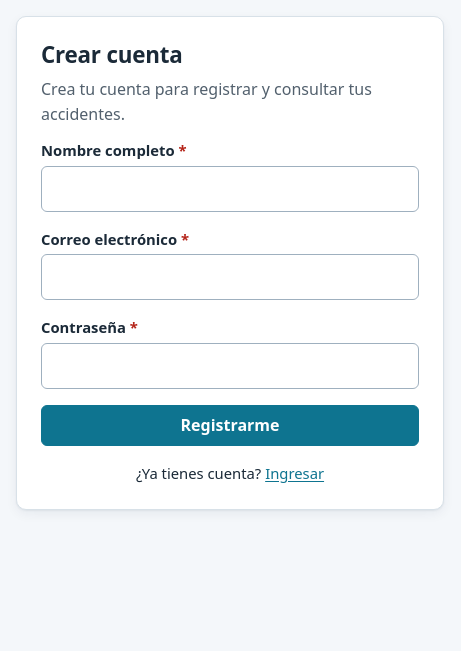
Test: RegisterPage › si el login posterior falla, avisa que la cuenta fue creada y enlaza a login
Type "Ana Pérez" into the field labelled "Nombre completo" at (230, 188), box [41, 166, 419, 212]
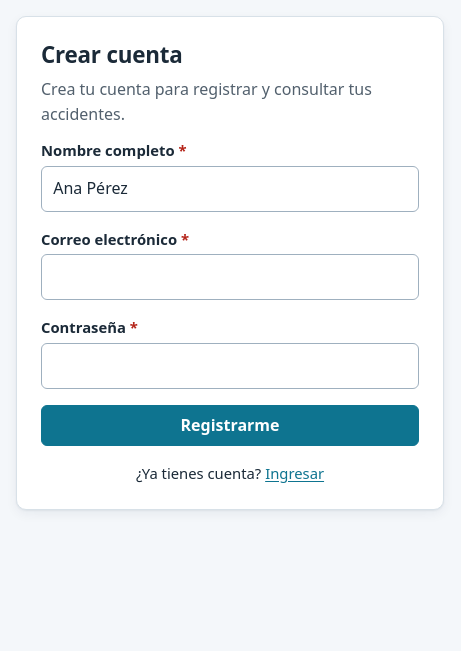
Type "a@b.co" into the field labelled "Correo electrónico" at (230, 277), box [41, 254, 419, 300]
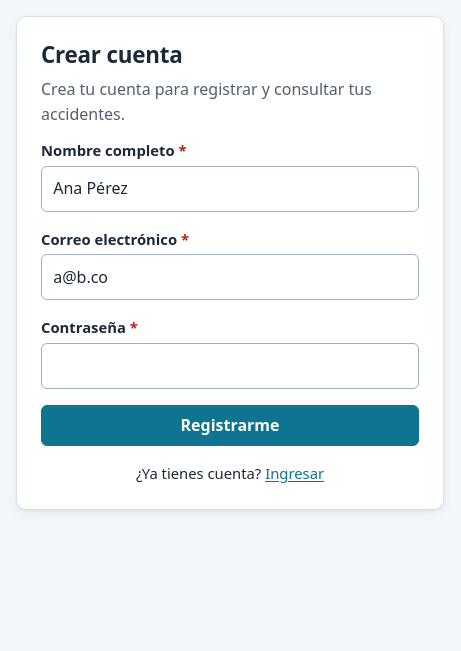
Type "secreto123" into the password field labelled "Contraseña" at (230, 366), box [41, 343, 419, 389]
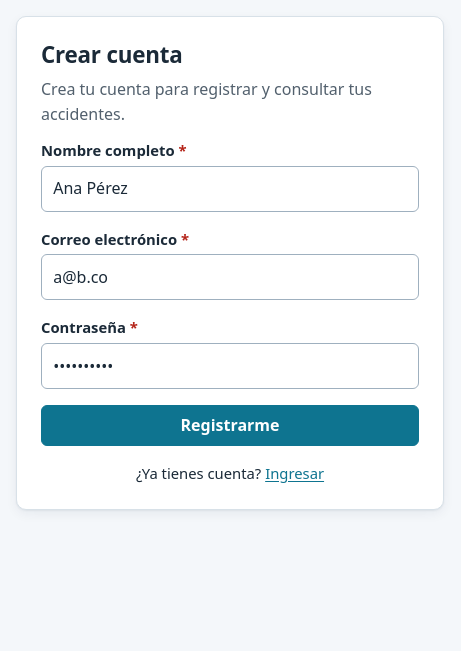
Click the button "Registrarme" at (230, 426), box [41, 405, 419, 446]
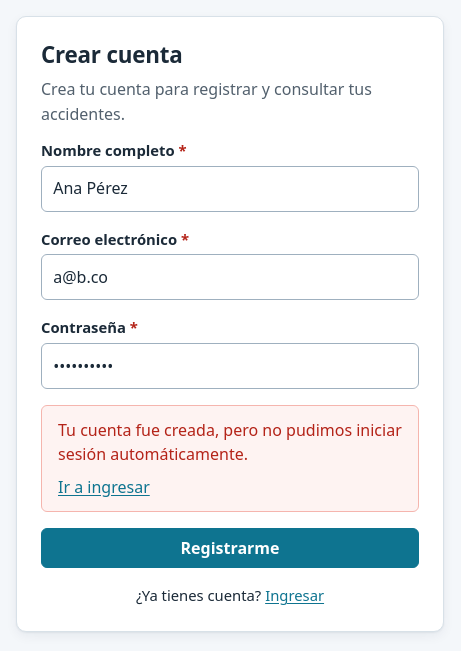
Expected: the message shows "Tu cuenta fue creada", [58, 418, 402, 465]
Expected: the link "Ir a ingresar" is shown, [58, 475, 150, 500]
